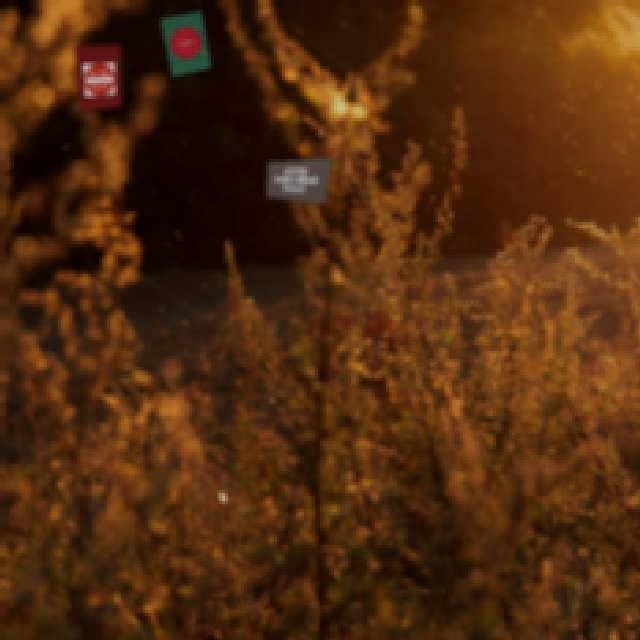DO_NOT_ENTER: (81, 61, 114, 96)
DO_NOT_GO_AROUND: (270, 165, 321, 193)
STOP: (166, 23, 203, 60)
